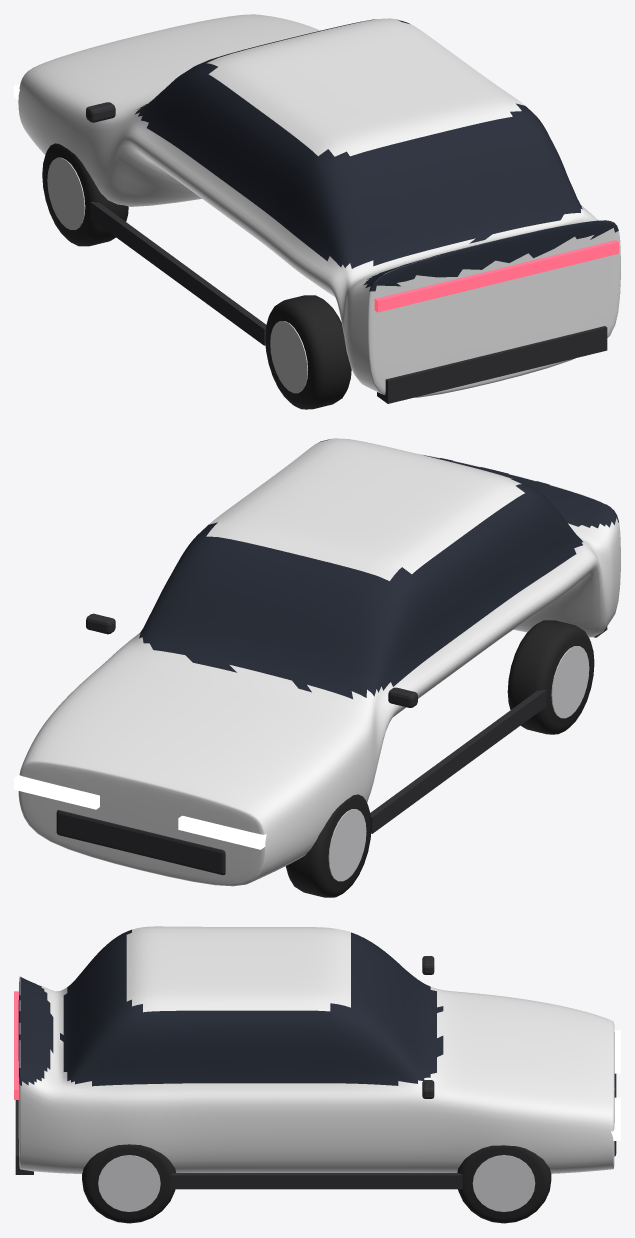
File: car_hatch.glb
The picture shows the model from 3 angles, top to bottom: view 1: azimuth 30°, elevation 25°; view 2: azimuth 150°, elevation 25°; view 3: azimuth 270°, elevation 25°; orthographic projection. The views are drawn at different scales.
Parts seen in each view (by area): view 1: paint, glass, trim, wheel_RL, wheel_FL, lamp_r; view 2: paint, glass, trim, wheel_RL, wheel_FL, lamp_f; view 3: paint, glass, trim, wheel_RR, wheel_FR, lamp_f, lamp_r.
Part boxes in pixels (bbox=[...]): paint: bbox=[18, 14, 620, 397]; glass: bbox=[134, 19, 618, 291]; trim: bbox=[86, 102, 607, 403]; wheel_RL: bbox=[265, 295, 351, 409]; wheel_FL: bbox=[42, 143, 128, 246]; lamp_r: bbox=[374, 240, 618, 312]; paint: bbox=[18, 438, 620, 886]; glass: bbox=[139, 439, 618, 698]; trim: bbox=[56, 613, 607, 875]; wheel_RL: bbox=[507, 620, 594, 734]; wheel_FL: bbox=[285, 794, 370, 897]; lamp_f: bbox=[14, 774, 266, 849]; paint: bbox=[18, 926, 614, 1173]; glass: bbox=[18, 929, 443, 1086]; trim: bbox=[15, 956, 616, 1189]; wheel_RR: bbox=[82, 1144, 175, 1223]; wheel_FR: bbox=[457, 1145, 551, 1223]; lamp_f: bbox=[611, 1030, 620, 1140]; lamp_r: bbox=[14, 991, 19, 1099].
Bounding box in the file's own units: 2.08 × 1.5 × 3.97.
